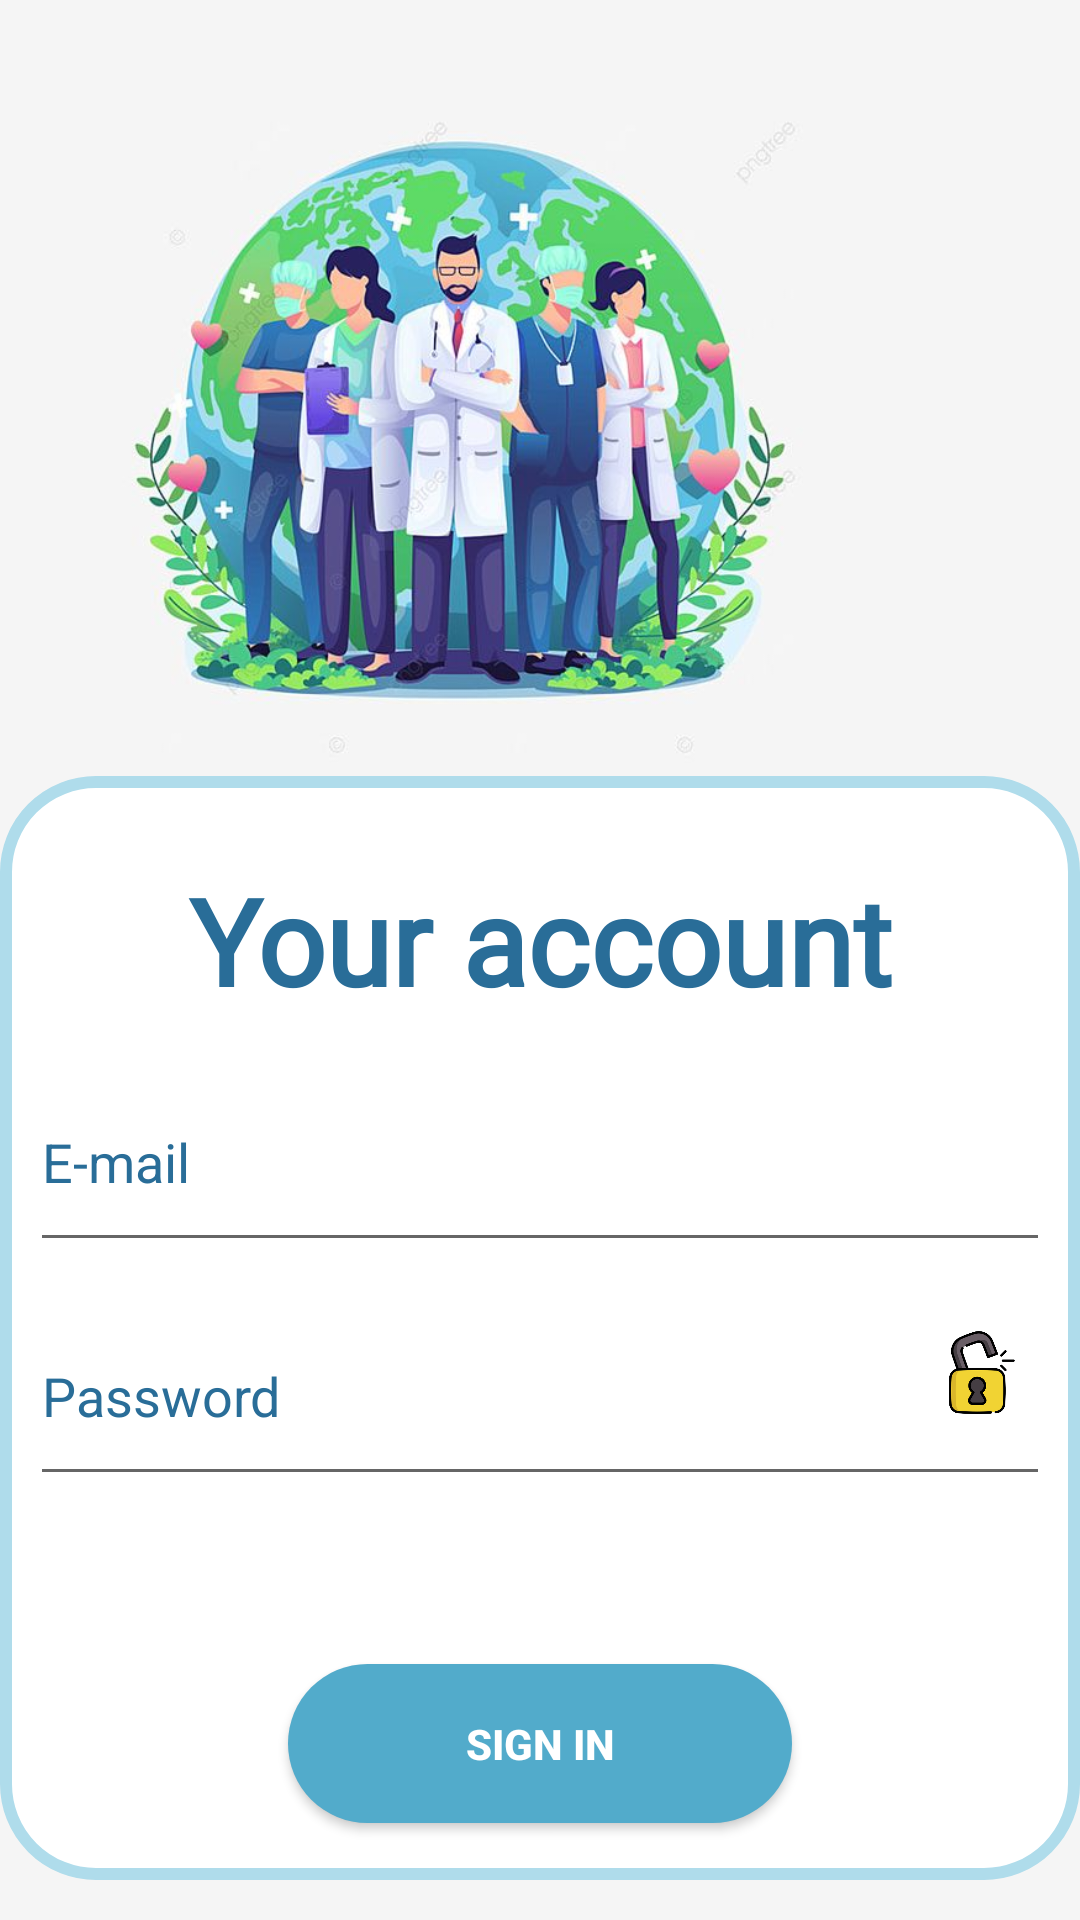

Icon click points for this 1080×1920 phone screenshot, format point (x, y):
unlocked: point (982, 1372)
